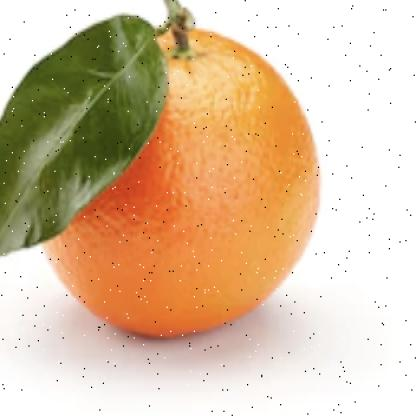fresh: (31, 17, 322, 342)
